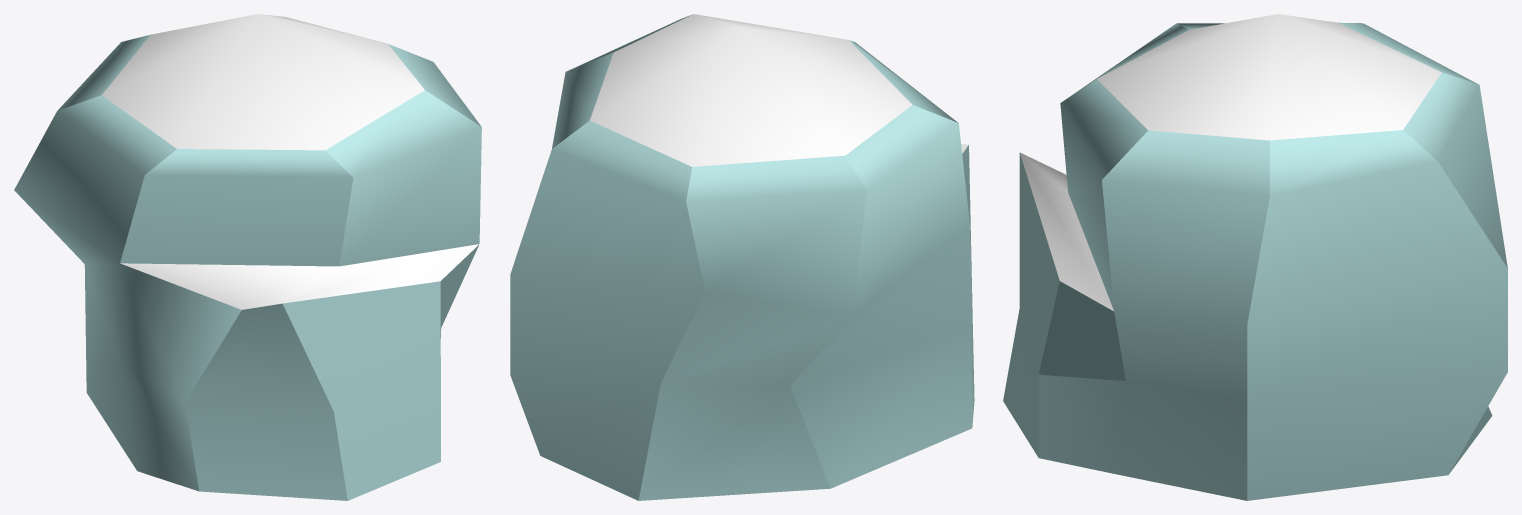
The model's file is MediumIceCube.fbx.
The picture shows the model from 3 angles, left to right: view 1: azimuth 30°, elevation 25°; view 2: azimuth 150°, elevation 25°; view 3: azimuth 270°, elevation 25°; orthographic projection. The views are drawn at different scales.
Parts seen in each view (by area): view 1: pCylinder3; view 2: pCylinder3; view 3: pCylinder3.
Boxes of the visible parts, bbox=[...] form: pCylinder3: bbox=[14, 14, 481, 500]; pCylinder3: bbox=[510, 14, 974, 500]; pCylinder3: bbox=[1003, 14, 1507, 500].
Bounding box in the file's own units: 3.62 × 3.77 × 4.24.
